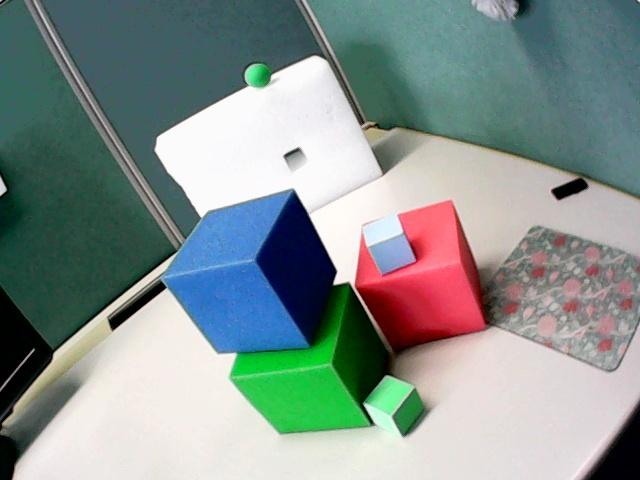blue_block: (162, 190, 335, 351), (363, 215, 415, 274)
red_block: (356, 201, 485, 349)
